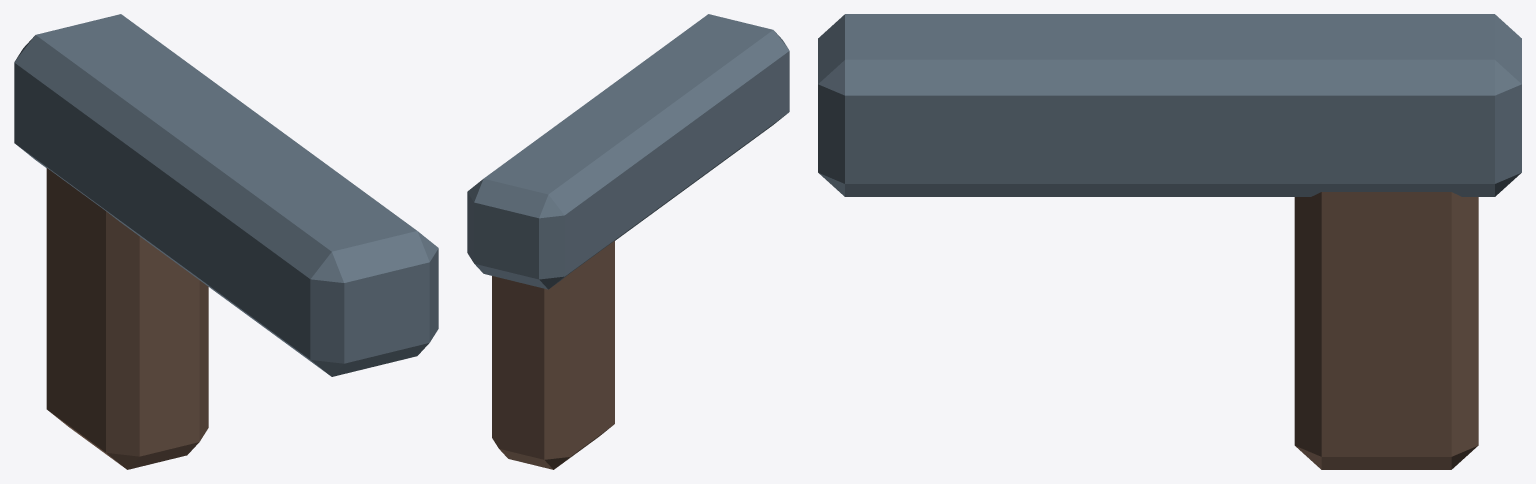
The model's file is SH10_Gun.fbx.
3 views of the same model, side by side, from view 1: azimuth 30°, elevation 25°; view 2: azimuth 150°, elevation 25°; view 3: azimuth 270°, elevation 25° (orthographic). The views are drawn at different scales.
Parts seen in each view (by area): view 1: SH10_Gun; view 2: SH10_Gun; view 3: SH10_Gun.
Boxes of the visible parts, box(x1,y1,x2,y2) form: SH10_Gun: box(14, 14, 438, 469); SH10_Gun: box(467, 14, 789, 469); SH10_Gun: box(818, 14, 1521, 469).
Size of the model in its own units: 15 by 42.5 by 65.
